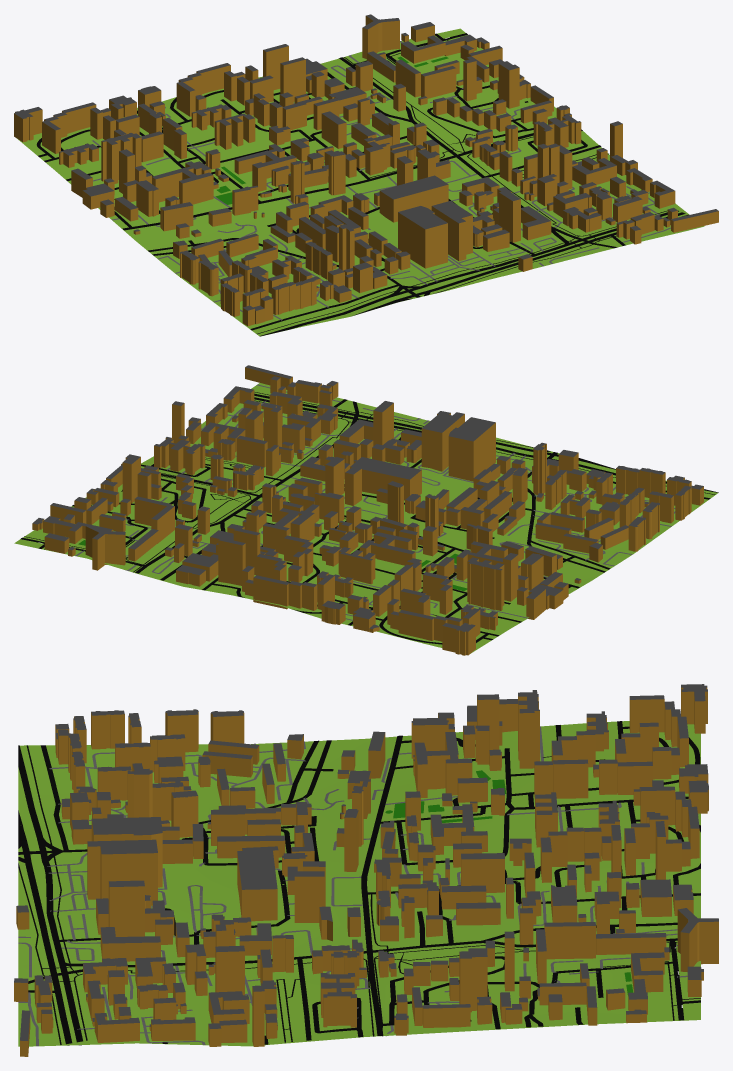
Rendered from tile_02_04.glb.
The picture shows the model from 3 angles, top to bottom: view 1: azimuth 30°, elevation 25°; view 2: azimuth 150°, elevation 25°; view 3: azimuth 270°, elevation 25°; orthographic projection. The views are drawn at different scales.
Visible parts, largest first — view 1: Ub_small.osm_buildings_02_04, Terrain_02_04, Ub_small.osm_roads_residential_02_04, Ub_small.osm_roads_service_02_04, Ub_small.osm_roads_trunk_02_04, Ub_small.osm_roads_secondary_02_04, Ub_small.osm_paths_footway_02_04, Ub_small.osm_roads_unclassified_02_04; view 2: Ub_small.osm_buildings_02_04, Terrain_02_04, Ub_small.osm_roads_residential_02_04, Ub_small.osm_roads_service_02_04, Ub_small.osm_paths_footway_02_04, Ub_small.osm_roads_trunk_02_04, Ub_small.osm_roads_secondary_02_04; view 3: Ub_small.osm_buildings_02_04, Terrain_02_04, Ub_small.osm_roads_residential_02_04, Ub_small.osm_roads_service_02_04, Ub_small.osm_roads_trunk_02_04, Ub_small.osm_roads_secondary_02_04, Ub_small.osm_paths_footway_02_04, Ub_small.osm_roads_unclassified_02_04, Ub_small.osm_forest_02_04.
Boxes of the visible parts, x1,y1,x2,y2 form: Ub_small.osm_buildings_02_04: [14, 14, 718, 326]; Terrain_02_04: [16, 28, 704, 335]; Ub_small.osm_roads_residential_02_04: [36, 33, 601, 270]; Ub_small.osm_roads_service_02_04: [92, 41, 670, 320]; Ub_small.osm_roads_trunk_02_04: [259, 210, 685, 336]; Ub_small.osm_roads_secondary_02_04: [122, 57, 588, 242]; Ub_small.osm_paths_footway_02_04: [100, 33, 688, 334]; Ub_small.osm_roads_unclassified_02_04: [148, 238, 409, 330]; Ub_small.osm_buildings_02_04: [32, 365, 703, 655]; Terrain_02_04: [14, 383, 717, 653]; Ub_small.osm_roads_residential_02_04: [21, 429, 610, 644]; Ub_small.osm_roads_service_02_04: [75, 384, 675, 620]; Ub_small.osm_paths_footway_02_04: [20, 392, 715, 615]; Ub_small.osm_roads_trunk_02_04: [254, 393, 718, 492]; Ub_small.osm_roads_secondary_02_04: [135, 415, 579, 588]; Ub_small.osm_buildings_02_04: [14, 684, 718, 1056]; Terrain_02_04: [18, 721, 700, 1046]; Ub_small.osm_roads_residential_02_04: [56, 721, 700, 1044]; Ub_small.osm_roads_service_02_04: [18, 726, 698, 1046]; Ub_small.osm_roads_trunk_02_04: [18, 745, 82, 1045]; Ub_small.osm_roads_secondary_02_04: [54, 735, 677, 1035]; Ub_small.osm_paths_footway_02_04: [18, 745, 700, 1044]; Ub_small.osm_roads_unclassified_02_04: [40, 740, 331, 853]; Ub_small.osm_forest_02_04: [385, 770, 633, 995].
Bounding box in the file's own units: 1029 × 132 × 961.
